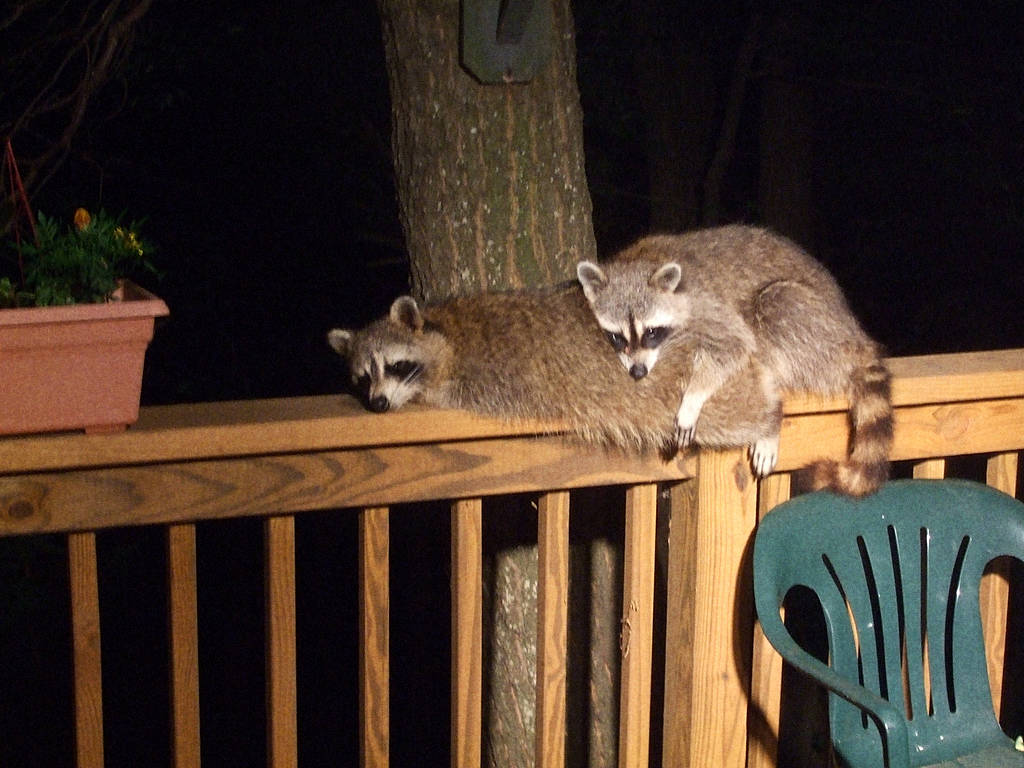raccoon: (322, 284, 778, 474), (578, 225, 893, 498)
